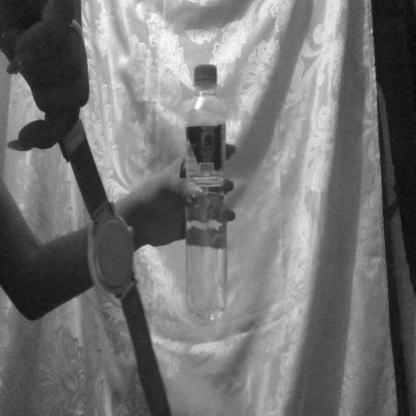Plastic Bottle: (164, 23, 260, 353)
